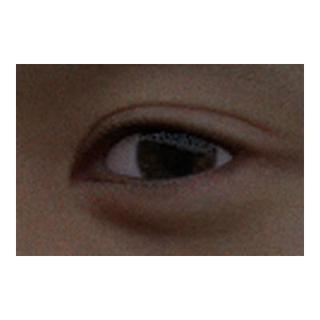pupil: (161, 139, 192, 170)
